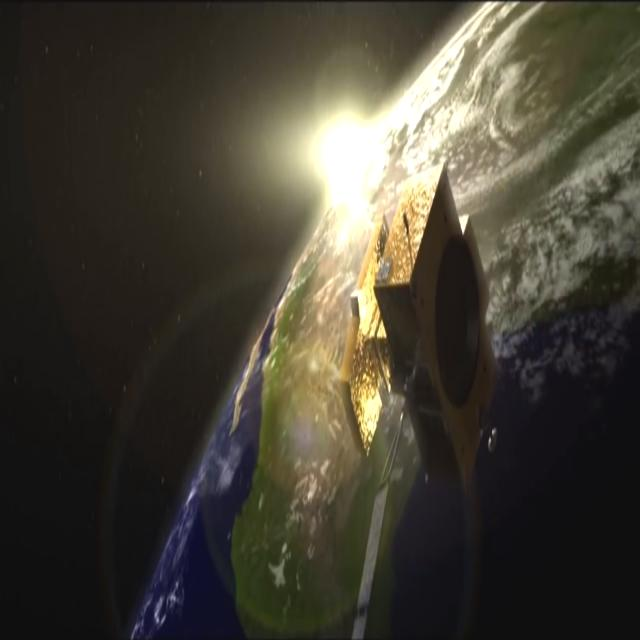satellite: (321, 144, 504, 640)
